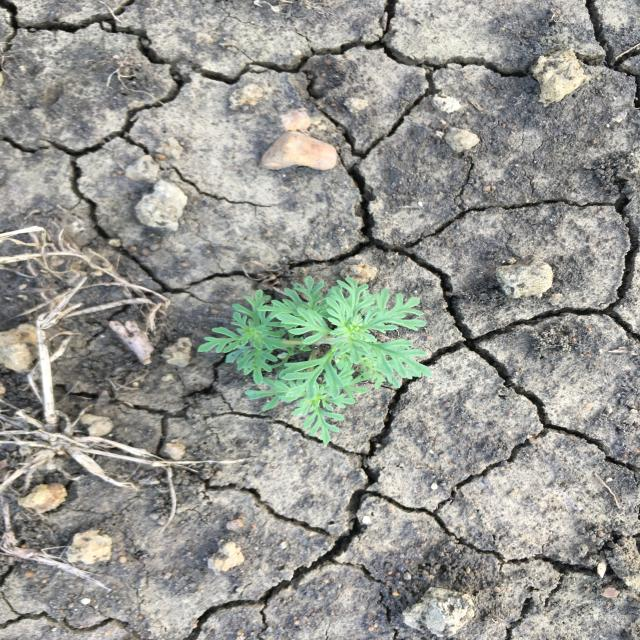Ragweed: (198, 274, 438, 449)
